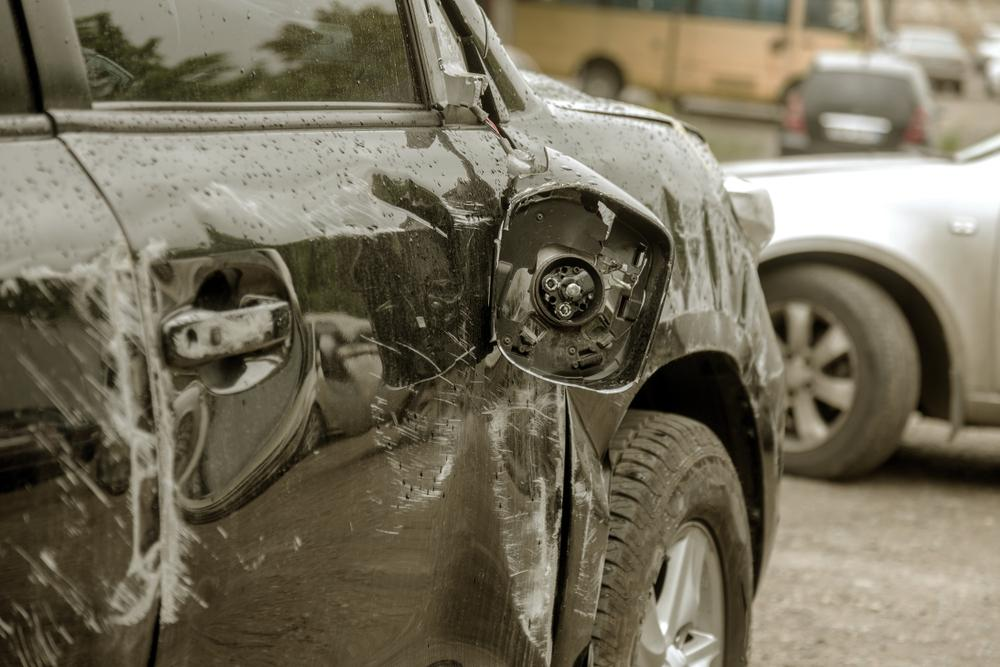dent: (310, 169, 472, 508), (186, 332, 312, 503)
scratch: (0, 238, 160, 667), (134, 237, 200, 626), (486, 386, 563, 667), (569, 429, 607, 617), (174, 306, 283, 353)
